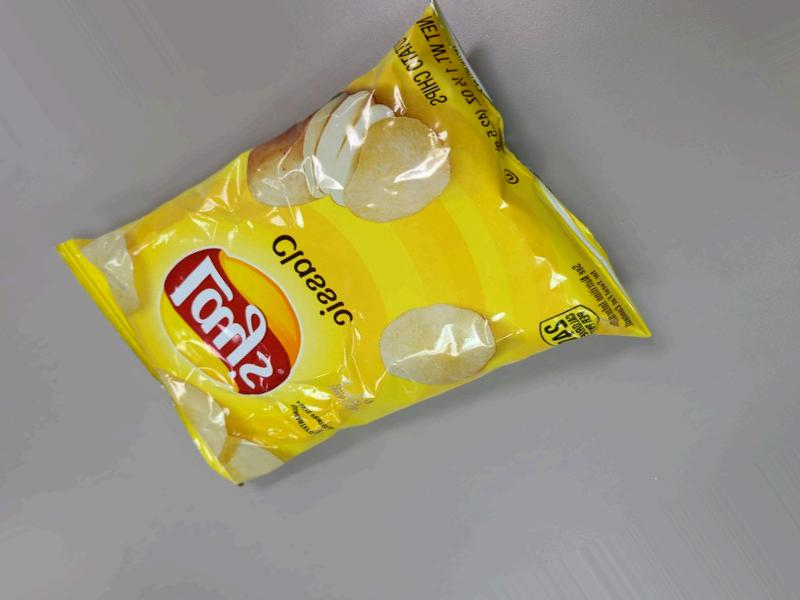lays: (107, 0, 637, 487)
